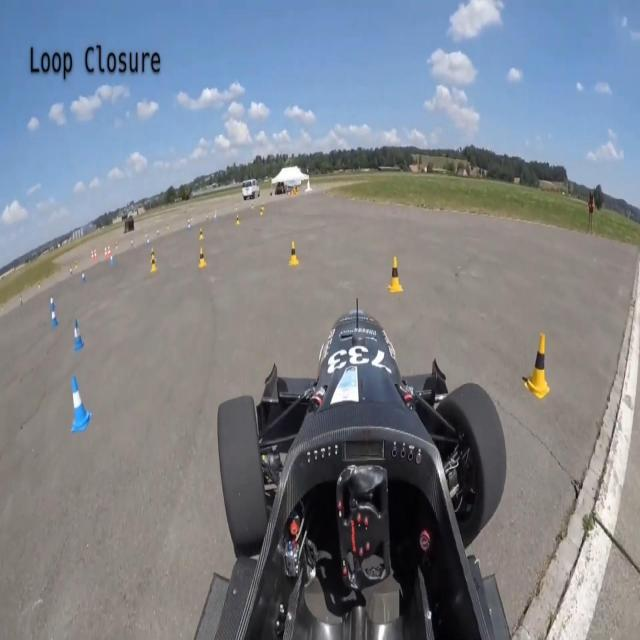blue_cone: (70, 372, 90, 433), (74, 317, 85, 351), (52, 304, 58, 329)
yellow_cone: (524, 332, 550, 399), (387, 257, 403, 292), (288, 240, 298, 266), (199, 246, 207, 270), (150, 252, 158, 272)
